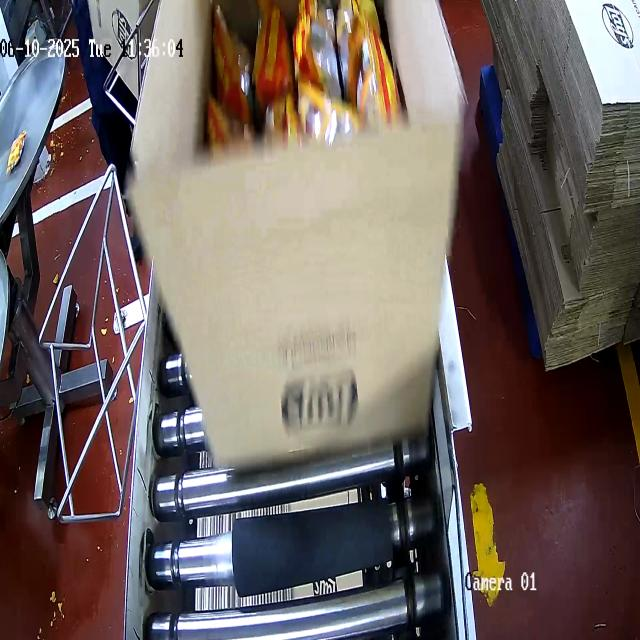FRENCH_CHEESE: (205, 0, 398, 126)
